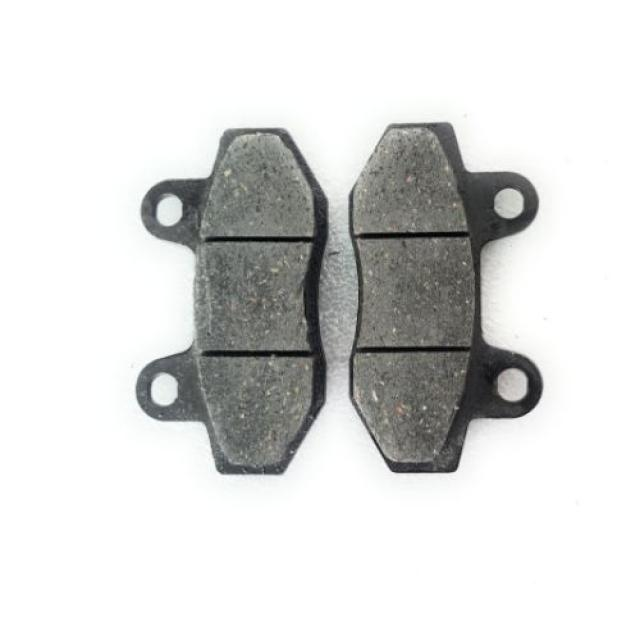brake_pad: (130, 115, 337, 495), (348, 100, 545, 499)
